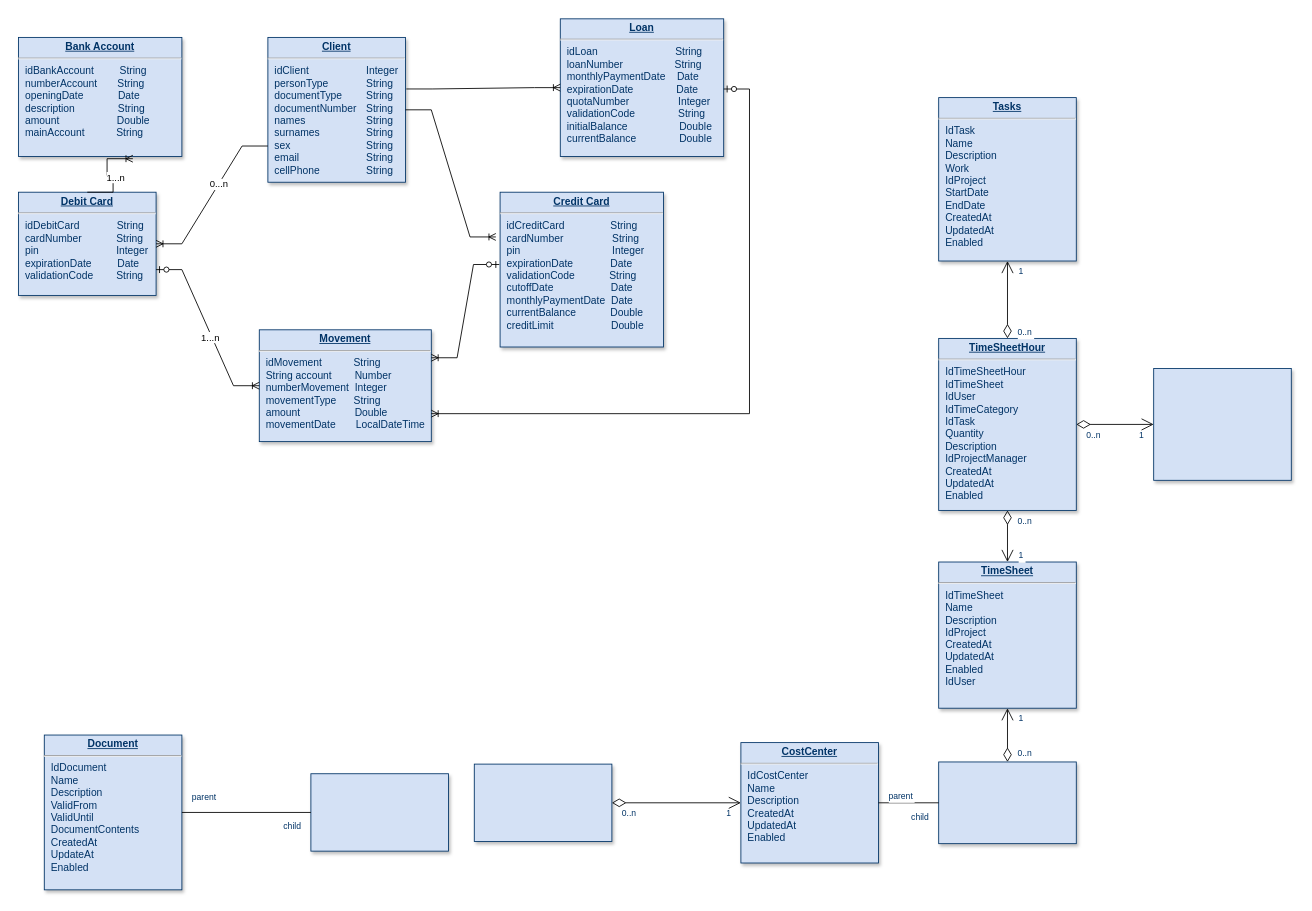
Some shapes in this 1312 by 911 pixel diagram are drawn without their labels. The shapes that lost their labels are listed below. From the top down, each one's centre as x and y in pixels, then its label:
At pixel 1222 425: "TimeCategory IdTimeCategory Name Description CreatedAt UpdatedAt Enabled".
At pixel 380 813: "ProjectDocument IdProjectDocument IdProject IdDocument".
At pixel 543 804: "ProjectCostCenter IdProjectCostCenter IdProject IdCostCenter".
At pixel 1007 804: "TimeSheetCostCenter IdTimeSheetCostCenter IdTimeSheet IdCostCenter".
